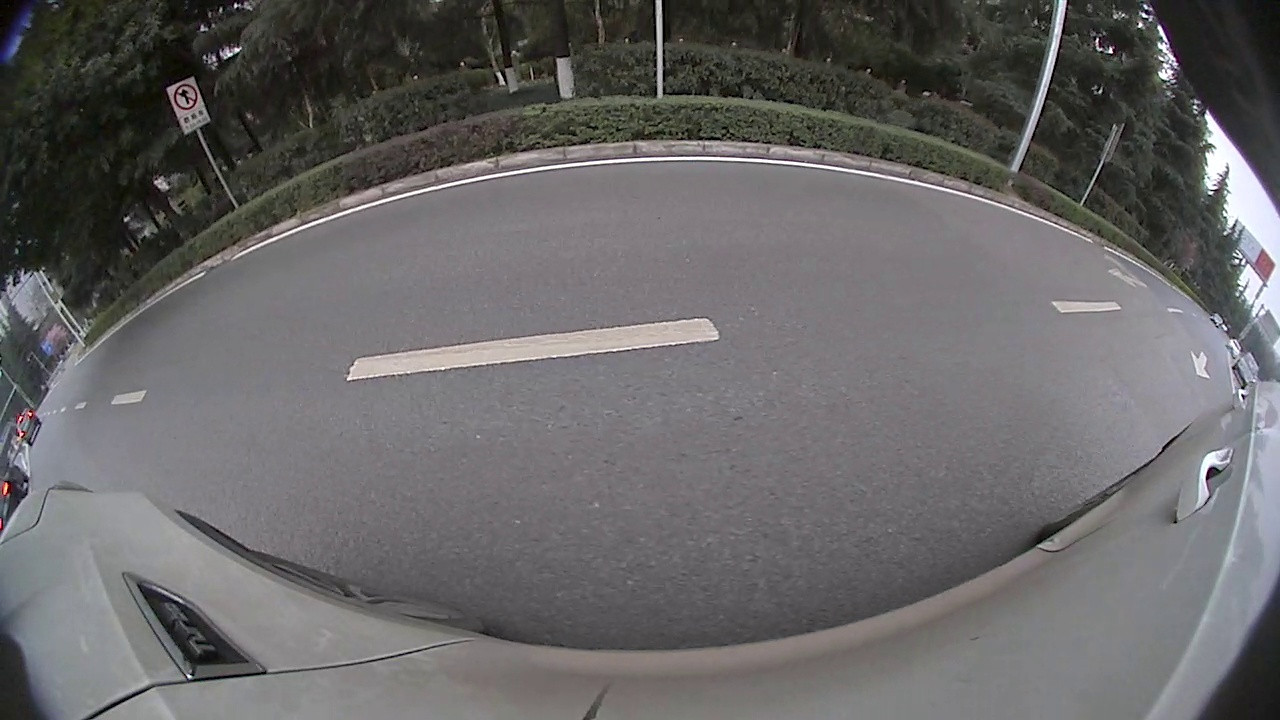car: (1, 464, 31, 532), (1232, 351, 1262, 391), (15, 406, 43, 448)
